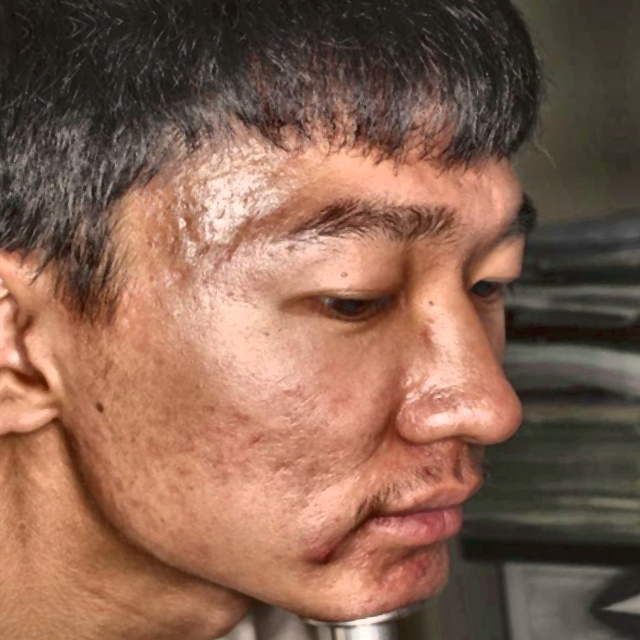comedone: (294, 535, 346, 578)
